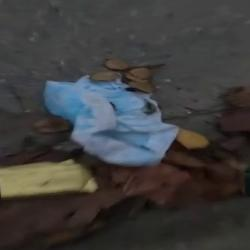Restaffald: (44, 74, 178, 165)
